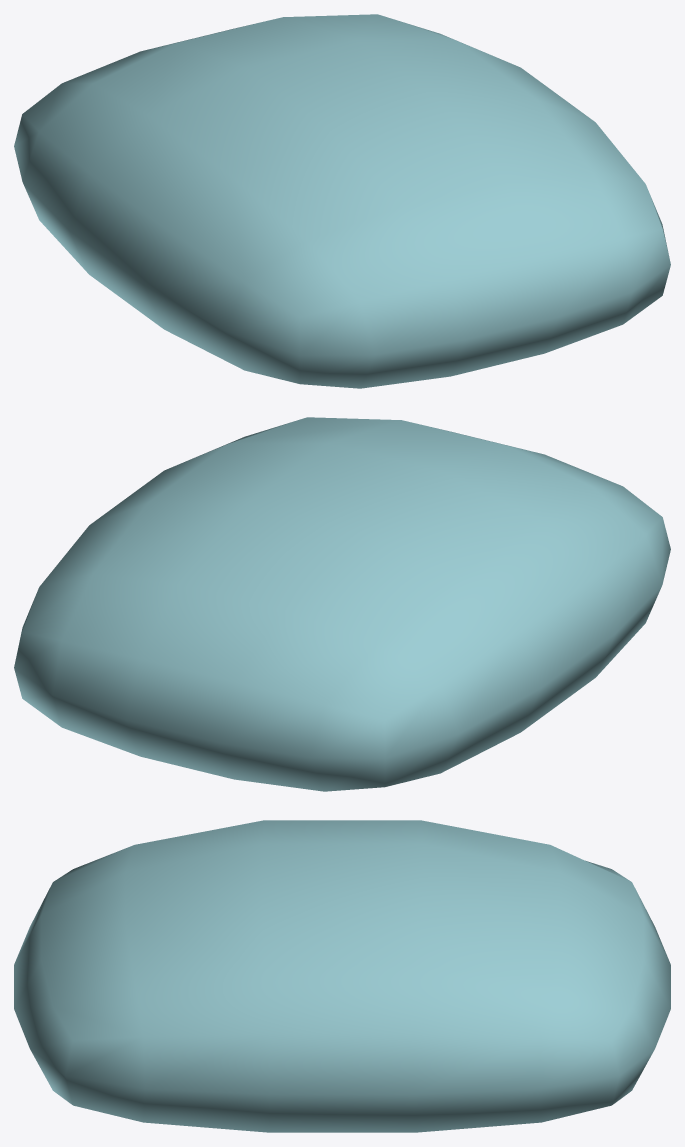
File: SackB.fbx
The picture shows the model from 3 angles, top to bottom: view 1: azimuth 30°, elevation 25°; view 2: azimuth 150°, elevation 25°; view 3: azimuth 270°, elevation 25°; orthographic projection. The views are drawn at different scales.
Parts seen in each view (by area): view 1: SackB; view 2: SackB; view 3: SackB.
Part boxes in pixels (box(x1,y1,x2,y2)): SackB: box(14, 14, 670, 388); SackB: box(14, 417, 670, 791); SackB: box(14, 820, 670, 1132).
Size of the model in its own units: 55.63 by 18.82 by 69.14.
